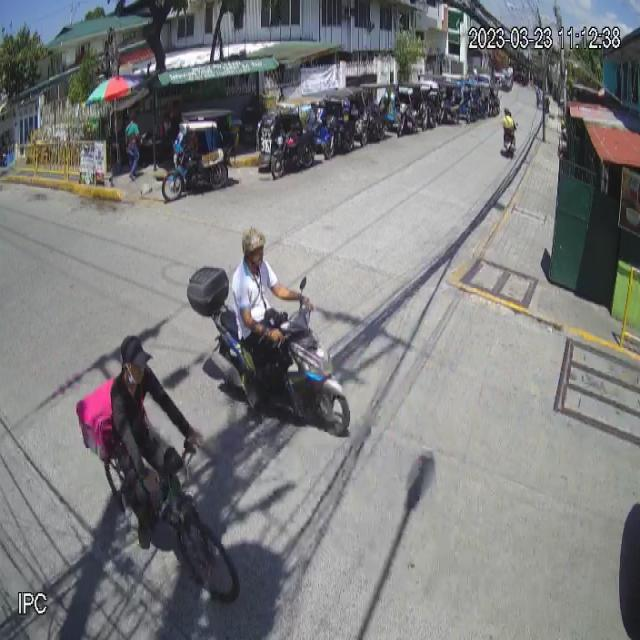Motorcycle: (186, 267, 352, 429)
